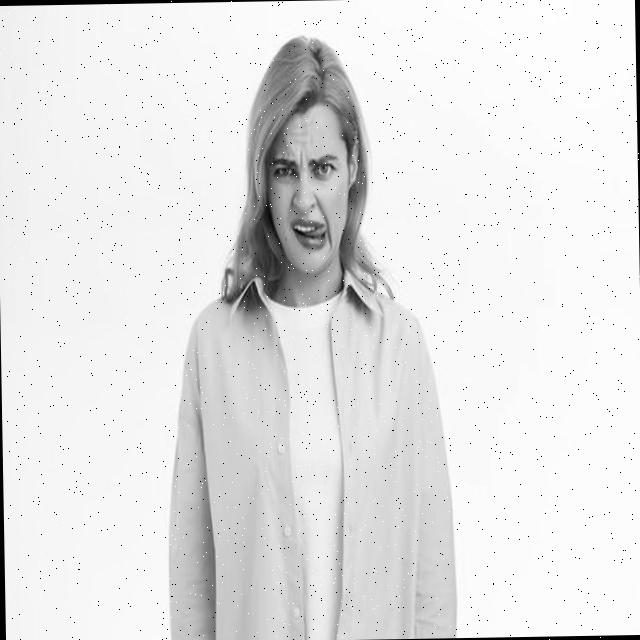Disgust: (263, 100, 352, 276)
